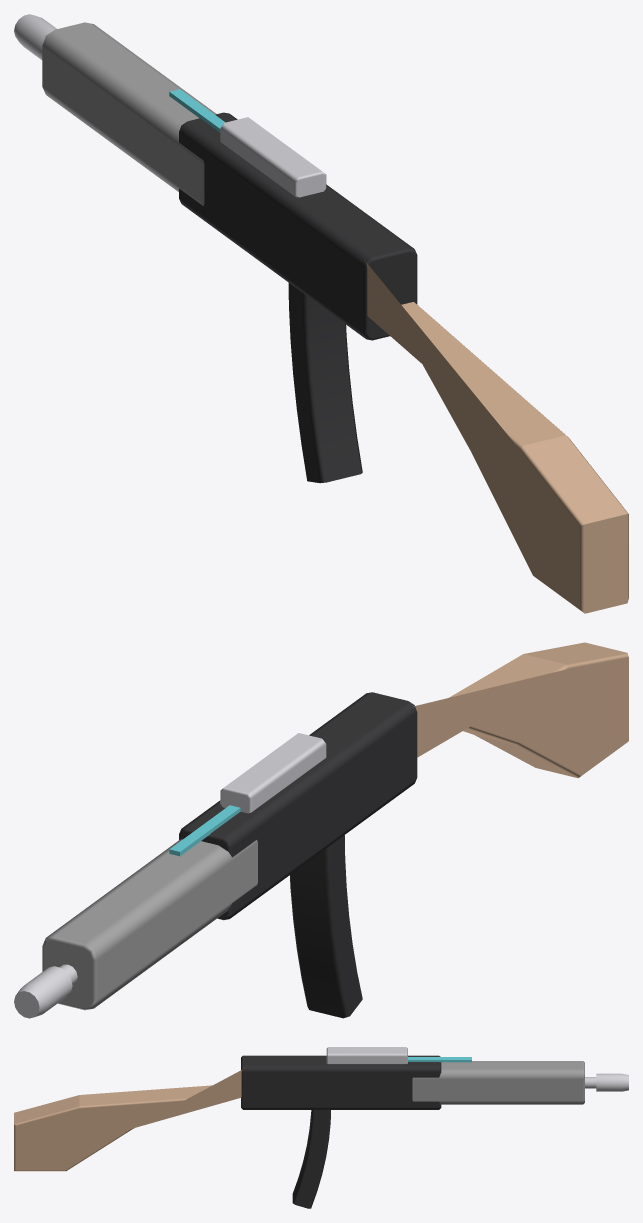
Rendered from probe.glb.
The picture shows the model from 3 angles, top to bottom: view 1: azimuth 30°, elevation 25°; view 2: azimuth 150°, elevation 25°; view 3: azimuth 270°, elevation 25°; orthographic projection. The views are drawn at different scales.
Visible parts, largest first — view 1: L0; view 2: L0; view 3: L0.
Boxes of the visible parts, bbox=[...] form: L0: bbox=[14, 14, 628, 613]; L0: bbox=[14, 642, 628, 1018]; L0: bbox=[14, 1047, 628, 1208].
Bounding box in the file's own units: 0.052 × 0.2596 × 0.94.
